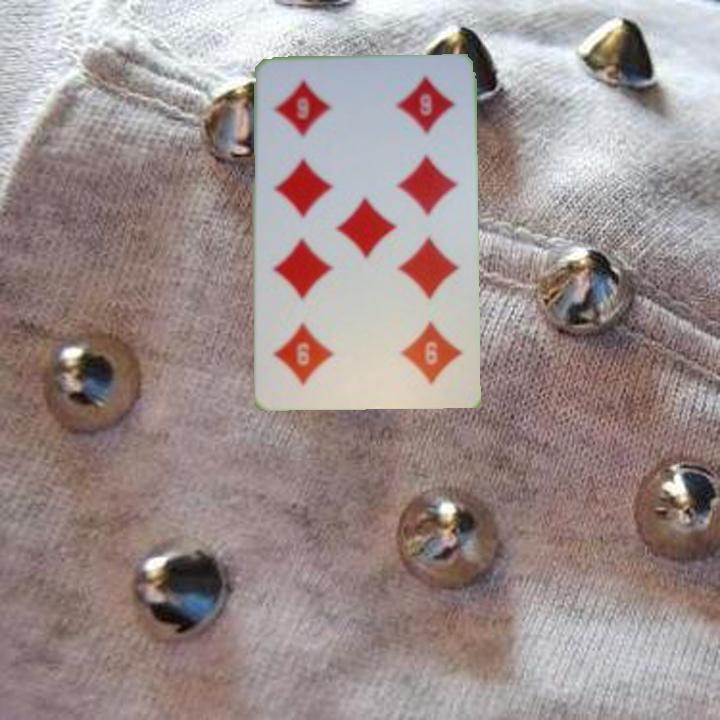d_9.png: (363, 305, 464, 393), (266, 71, 367, 158)
